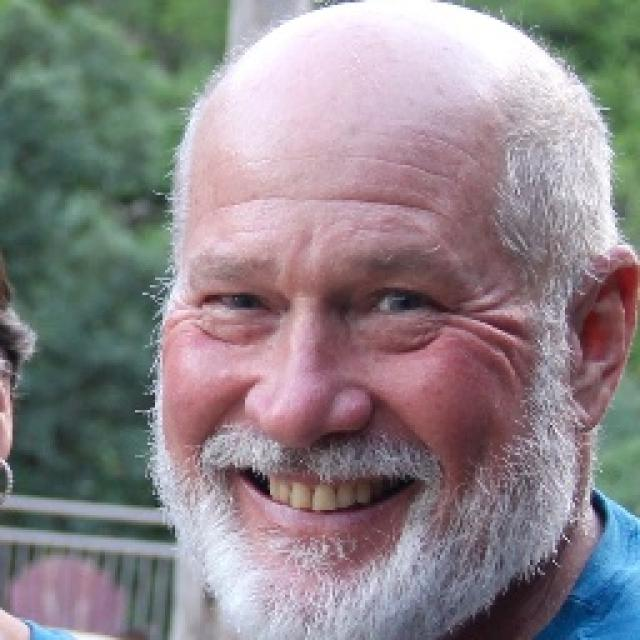earlobe: (562, 244, 640, 433)
